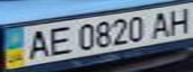0: (127, 12, 151, 43), (75, 20, 96, 52)
2: (109, 16, 133, 47)
8: (93, 17, 115, 50)
A: (21, 26, 54, 61), (148, 9, 175, 38)
E: (42, 24, 75, 56)
H: (163, 5, 193, 35)
